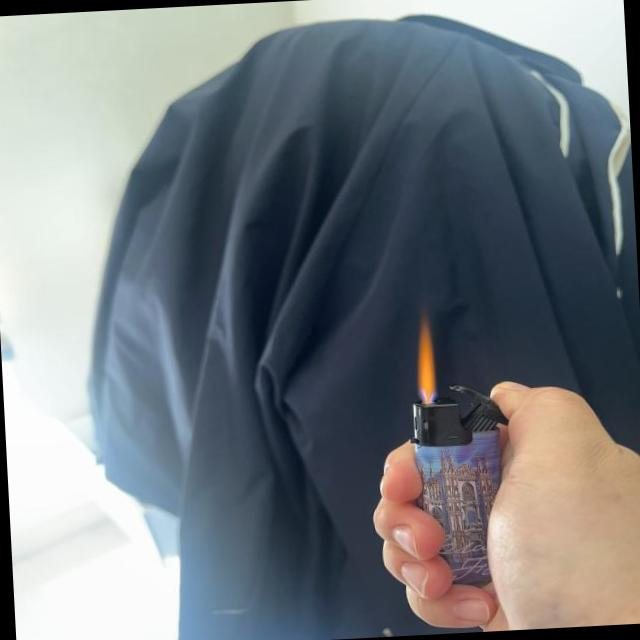Fire: (412, 317, 438, 401)
